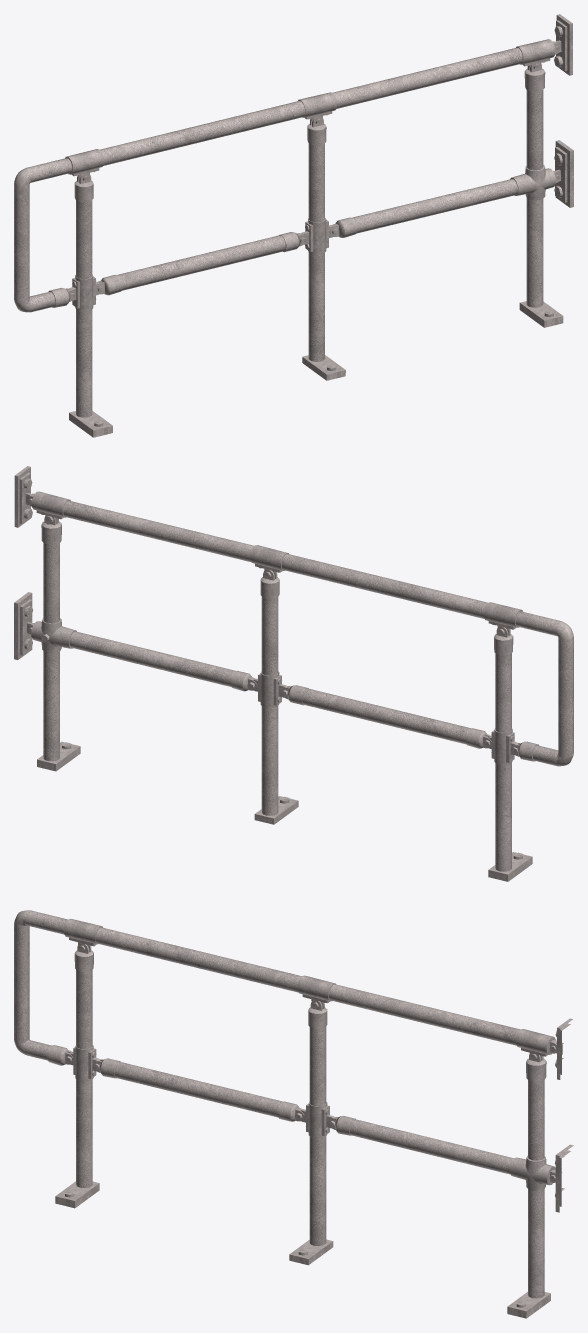
The model's file is SM_Railing_01a.glb.
3 views of the same model, one above another, from view 1: azimuth 30°, elevation 25°; view 2: azimuth 150°, elevation 25°; view 3: azimuth 330°, elevation 25° (orthographic).
Parts seen in each view (by area): view 1: SM_Railing_01a; view 2: SM_Railing_01a; view 3: SM_Railing_01a.
Part boxes in pixels (<box>): SM_Railing_01a: <box>14,14,573,437</box>; SM_Railing_01a: <box>14,466,573,881</box>; SM_Railing_01a: <box>14,910,573,1318</box>.
Bounding box in the file's own units: 2.21 × 1.1 × 0.1803.
1 material, 1 textured.
